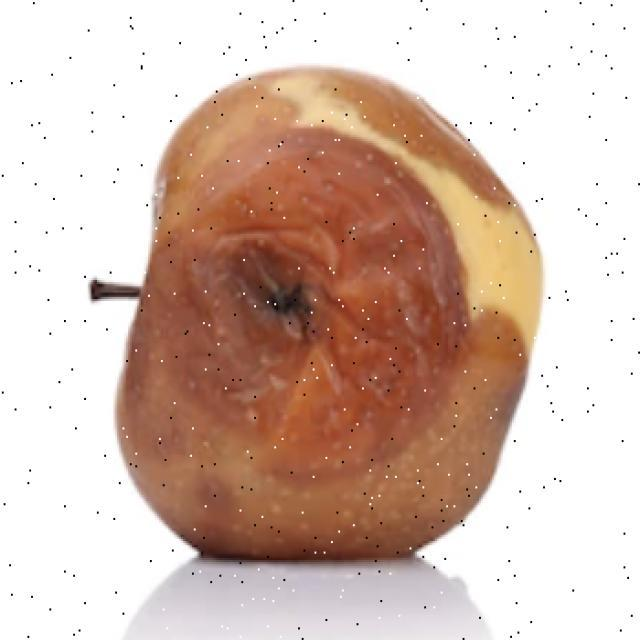Rotten: (90, 78, 525, 575)
